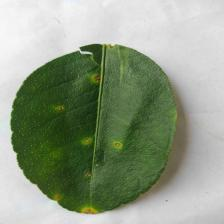canker: (5, 39, 134, 220)
